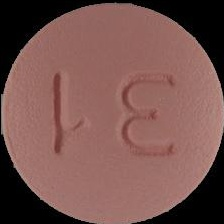57237-170: (0, 0, 224, 224)
